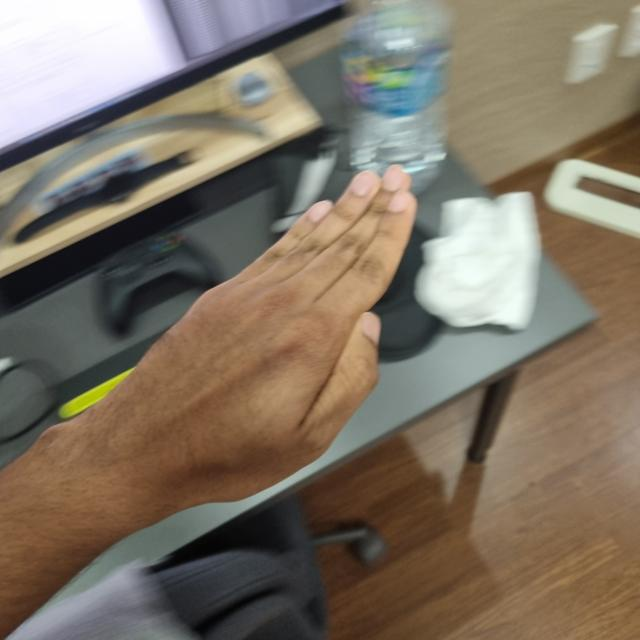Paper: (100, 168, 408, 509)
